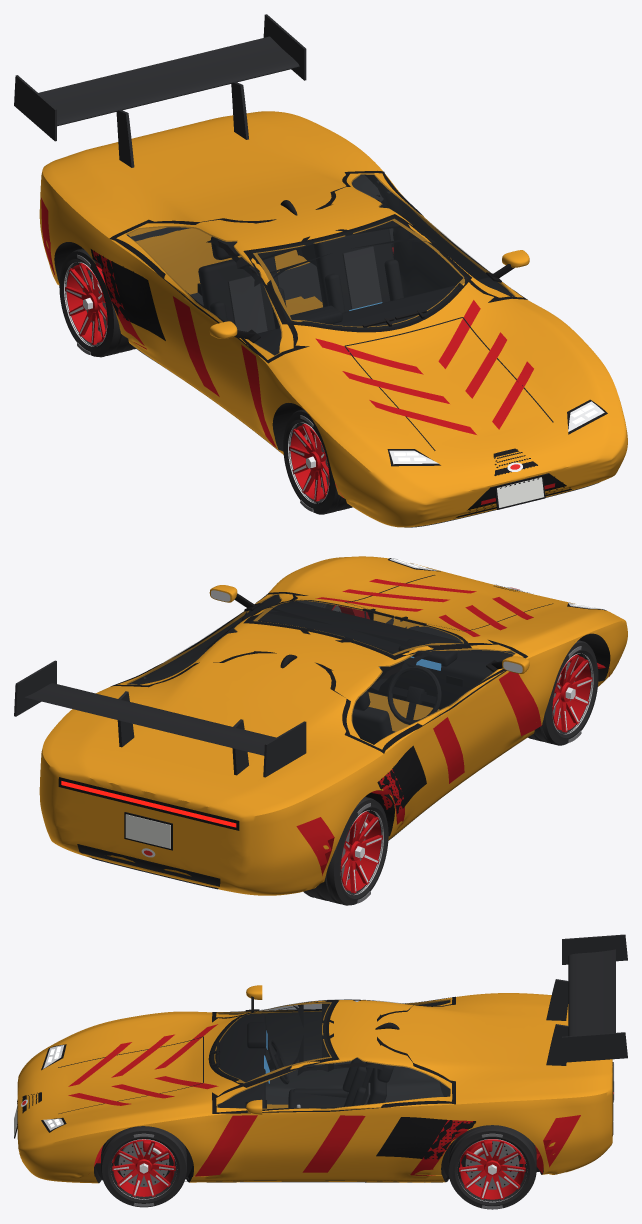
The model's file is taiyo.glb.
3 views of the same model, one above another, from view 1: azimuth 30°, elevation 25°; view 2: azimuth 150°, elevation 25°; view 3: azimuth 270°, elevation 25° (orthographic). The views are drawn at different scales.
Visible parts, largest first — view 1: Body, Wheel_RR, Wheel_FR; view 2: Body, Wheel_RR, Wheel_FR; view 3: Body, Wheel_RL, Wheel_FL.
Part boxes in pixels (<box>): Body: <box>14,14,627,527</box>; Wheel_RR: <box>59,248,135,357</box>; Wheel_FR: <box>283,409,352,514</box>; Body: <box>14,556,627,895</box>; Wheel_RR: <box>303,796,388,905</box>; Wheel_FR: <box>528,640,598,745</box>; Body: <box>14,934,627,1183</box>; Wheel_RL: <box>448,1125,536,1209</box>; Wheel_FL: <box>101,1126,186,1207</box>.
Size of the model in its own units: 2.31 by 1.51 by 4.85.
